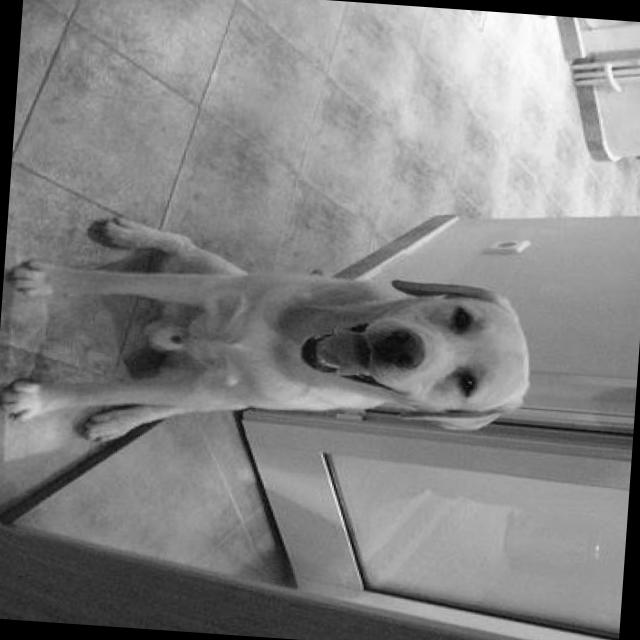sitting: (0, 203, 545, 480)
